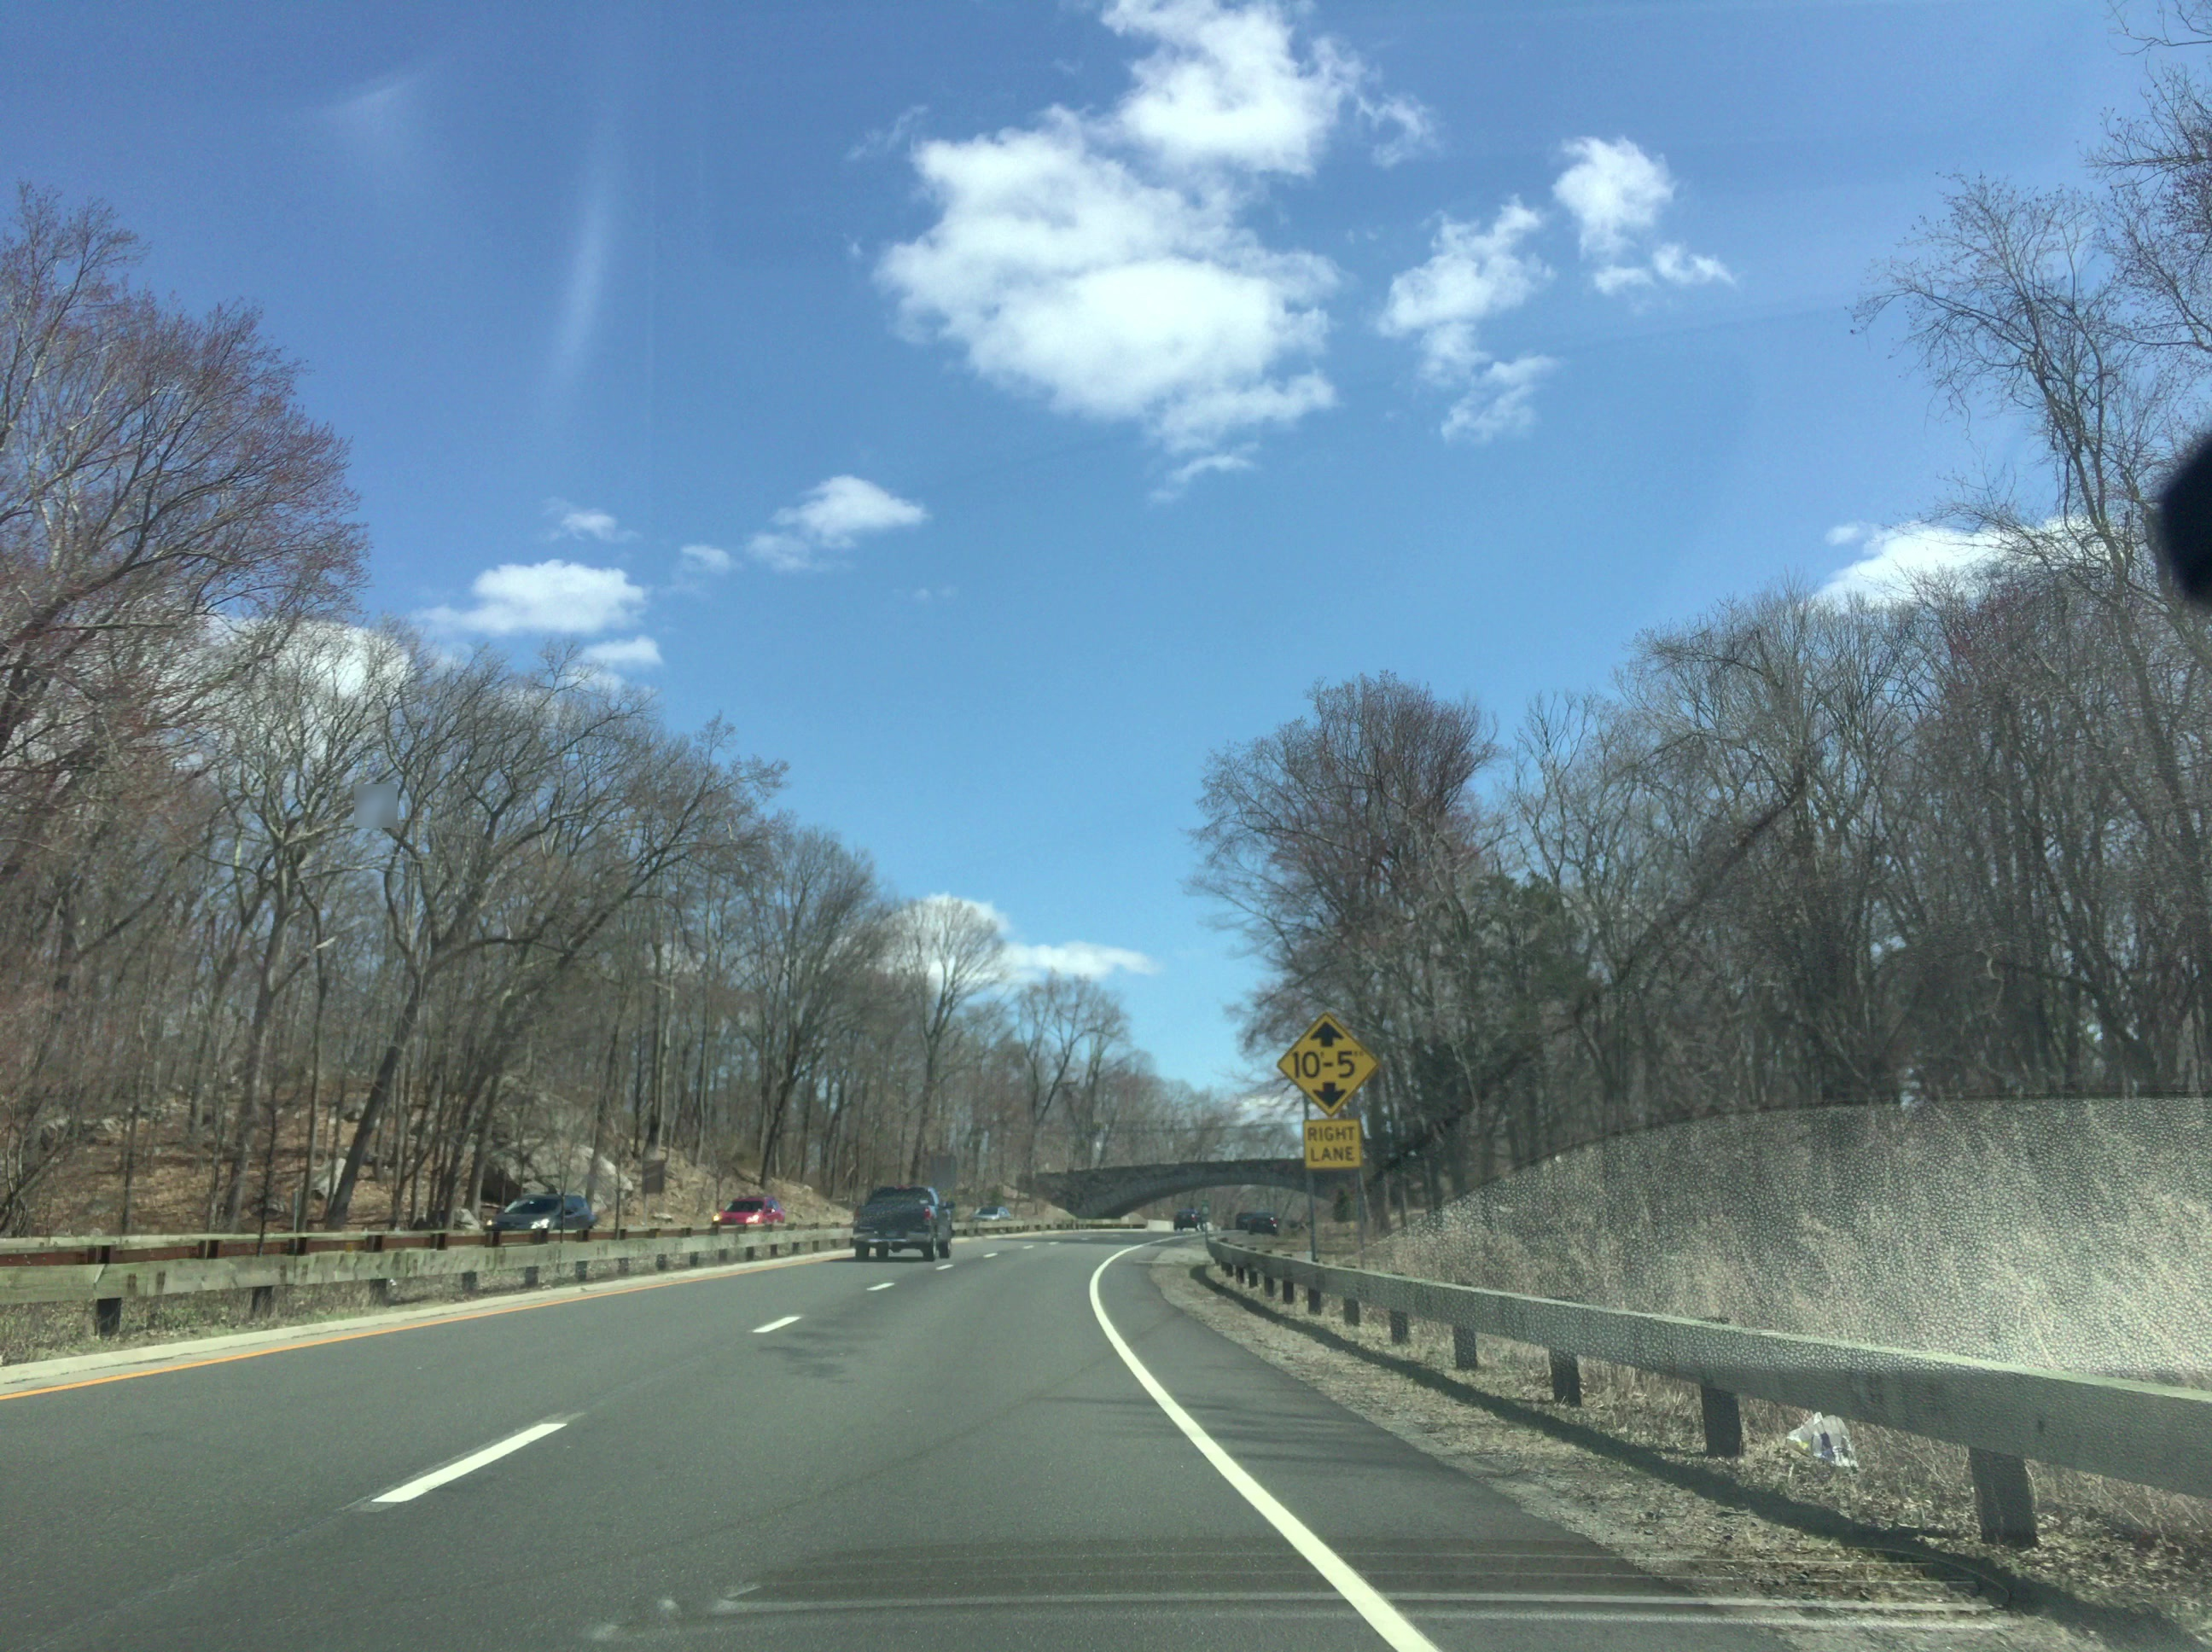low-clearance-sign: (1277, 1012, 1379, 1119)
